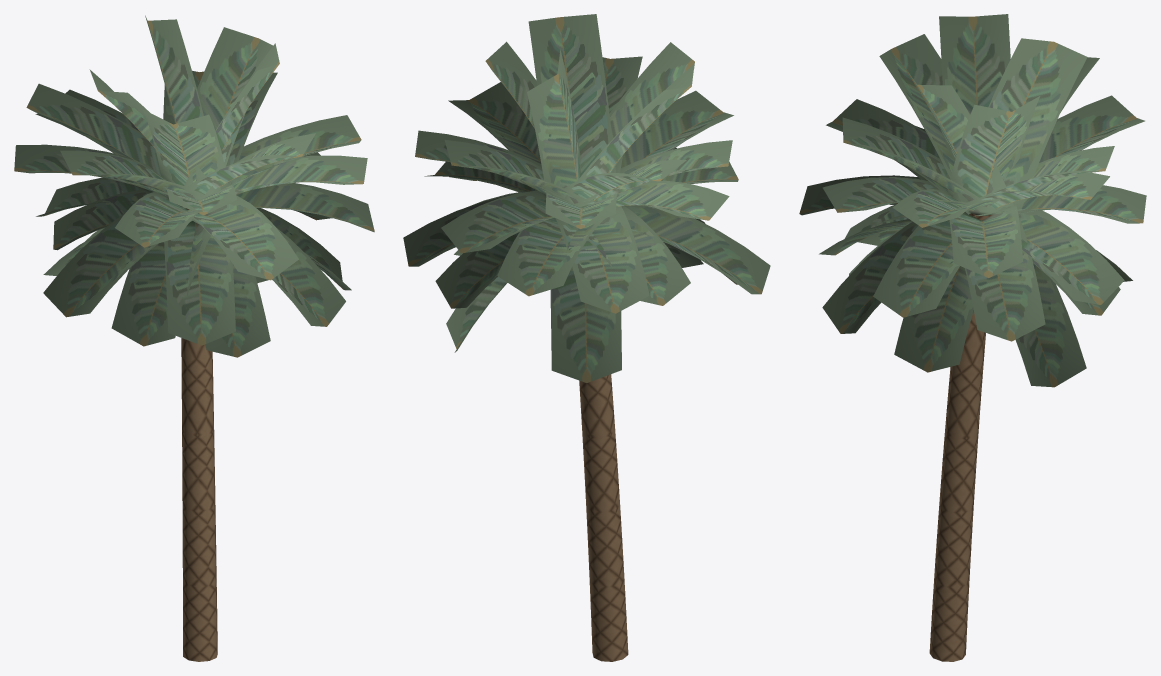
File: veg_date_palm_a.fbx
The picture shows the model from 3 angles, left to right: view 1: azimuth 30°, elevation 25°; view 2: azimuth 150°, elevation 25°; view 3: azimuth 270°, elevation 25°; orthographic projection. The views are drawn at different scales.
Parts seen in each view (by area): view 1: veg_date_palm_a_LOD0; view 2: veg_date_palm_a_LOD0; view 3: veg_date_palm_a_LOD0.
Part boxes in pixels (bbox=[...]): veg_date_palm_a_LOD0: bbox=[14, 15, 374, 661]; veg_date_palm_a_LOD0: bbox=[403, 14, 770, 661]; veg_date_palm_a_LOD0: bbox=[799, 14, 1146, 661].
Size of what is drawn, in the model's own units: 6.84 by 12.86 by 6.5.
2 materials, 2 textured.
